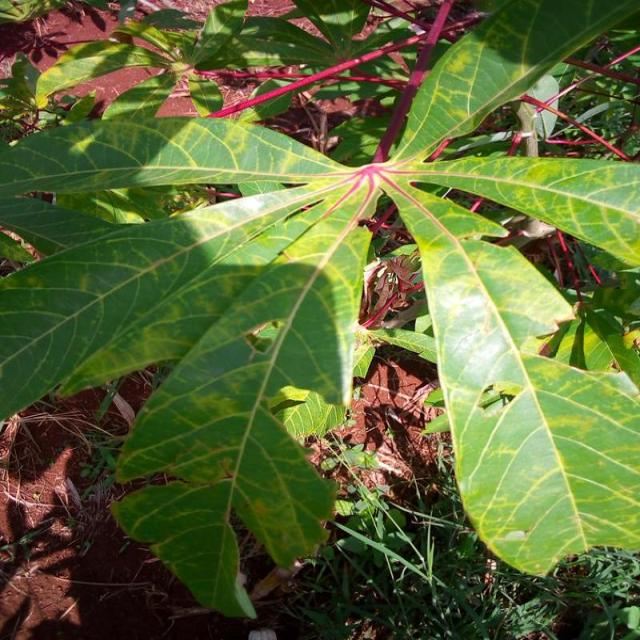cassava leaf: (1, 1, 638, 617), (382, 163, 638, 578)
